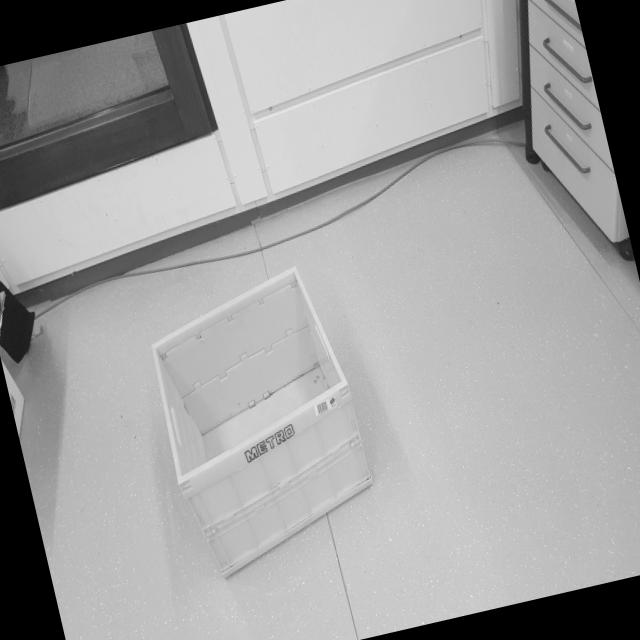box: (126, 255, 393, 590)
